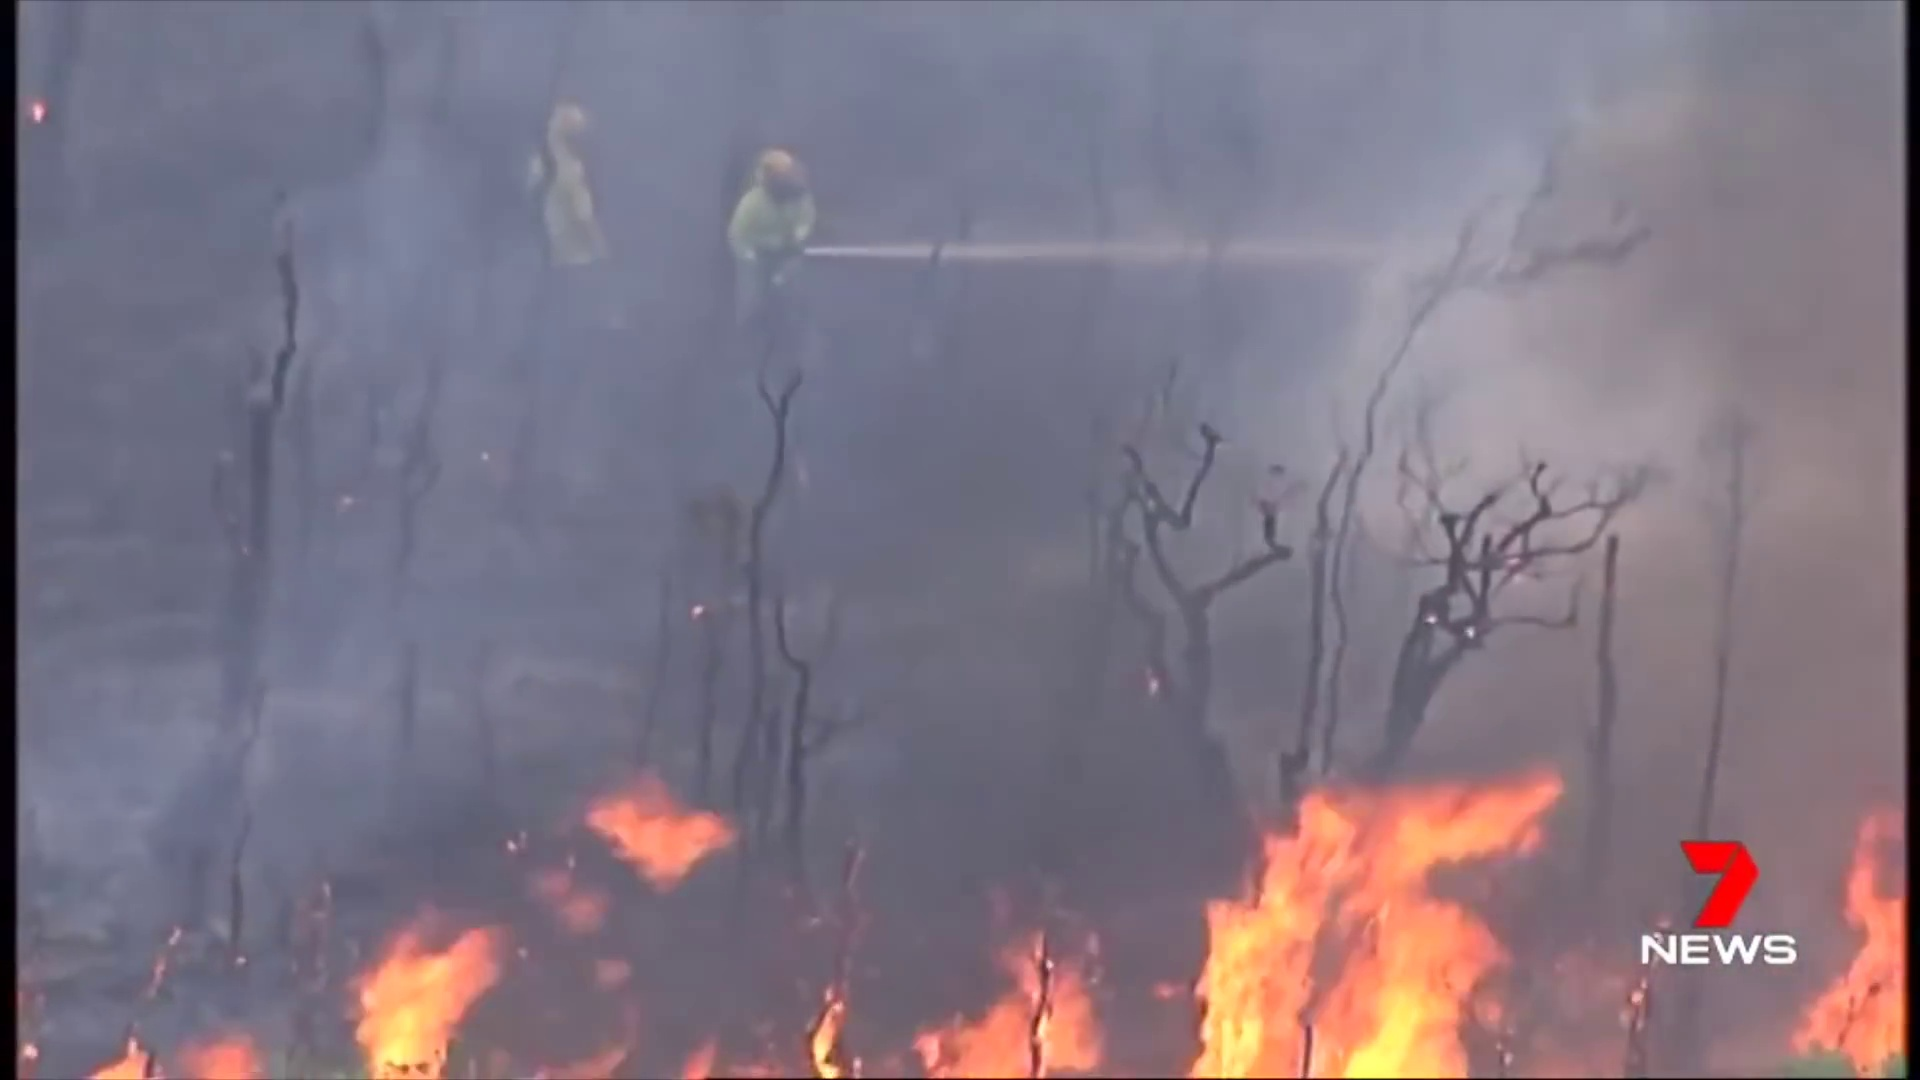fire: (1187, 778, 1553, 1080), (1804, 818, 1920, 1072), (920, 935, 1101, 1080), (356, 920, 495, 1080), (589, 778, 735, 889)
